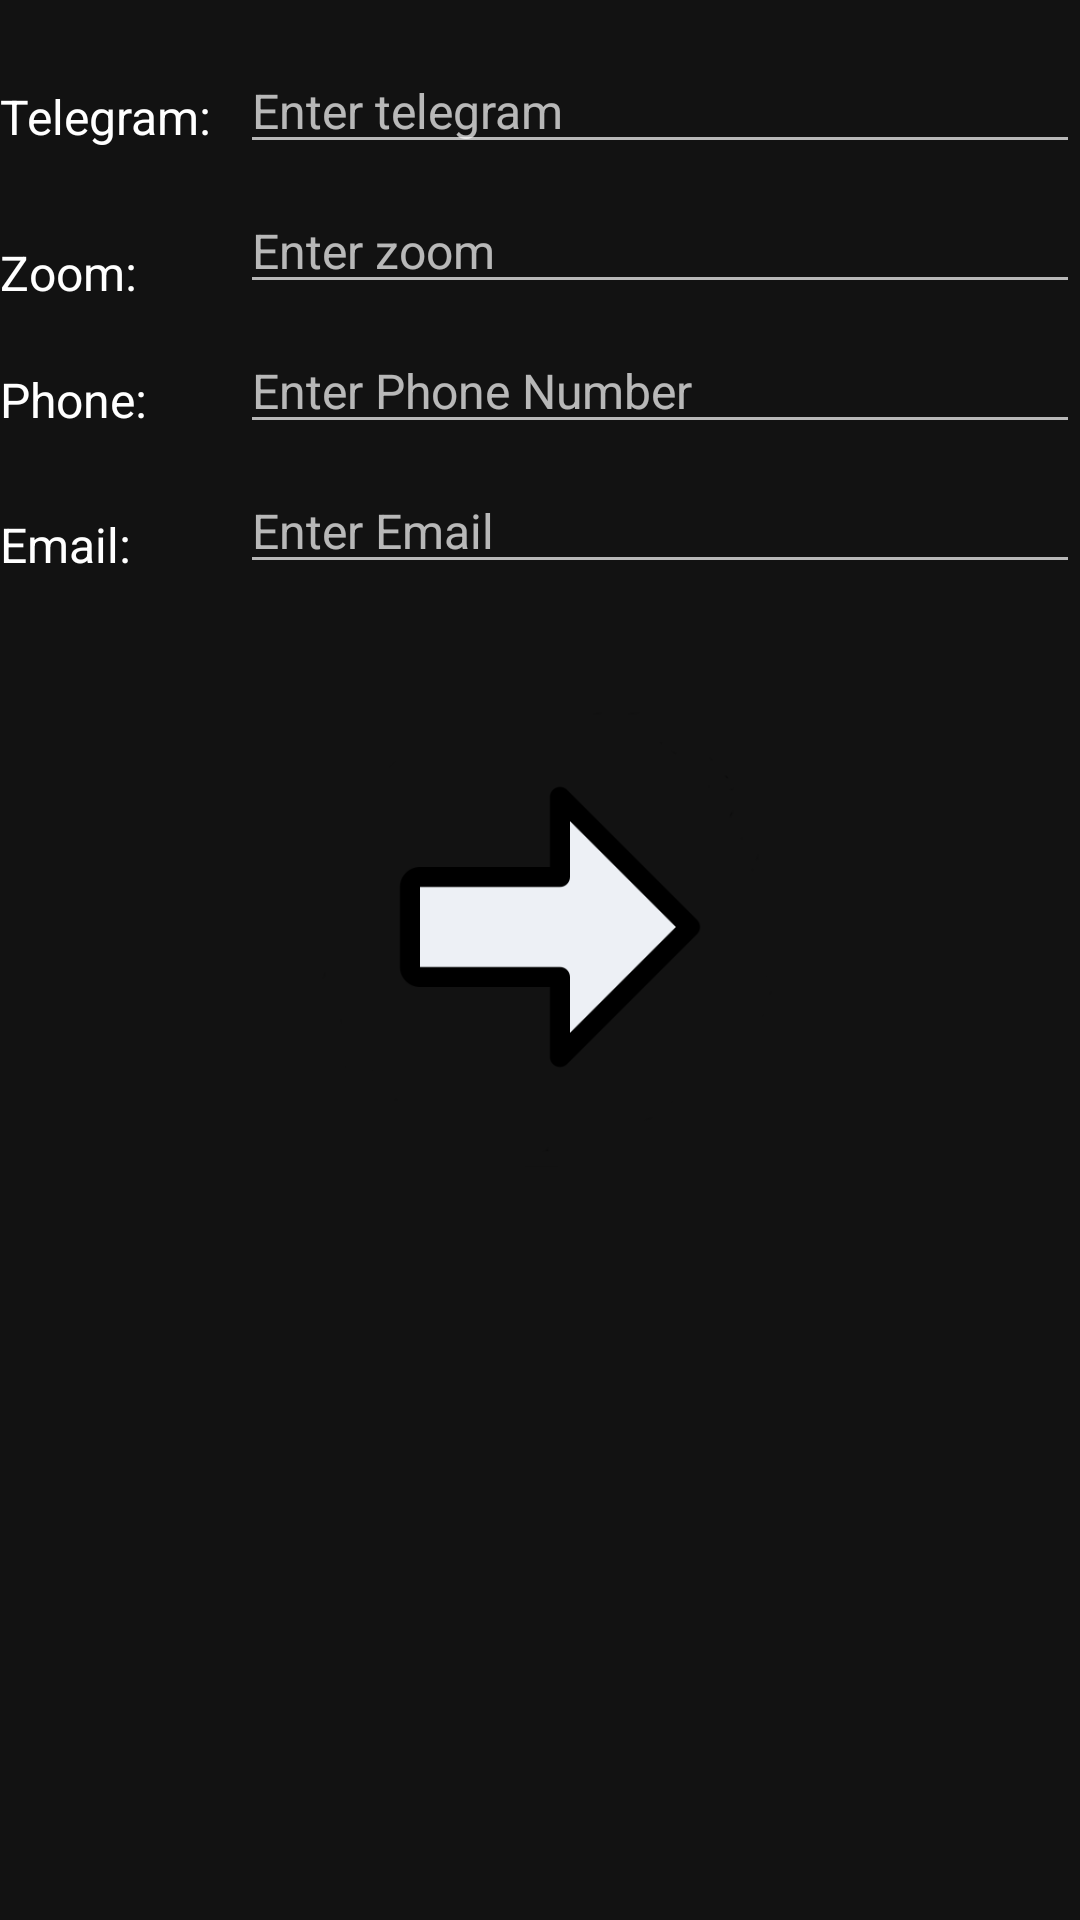

Screen size 1080x1920. Icon name, then its center in pixels as (x=x, y=y):
next: (x=548, y=927)
